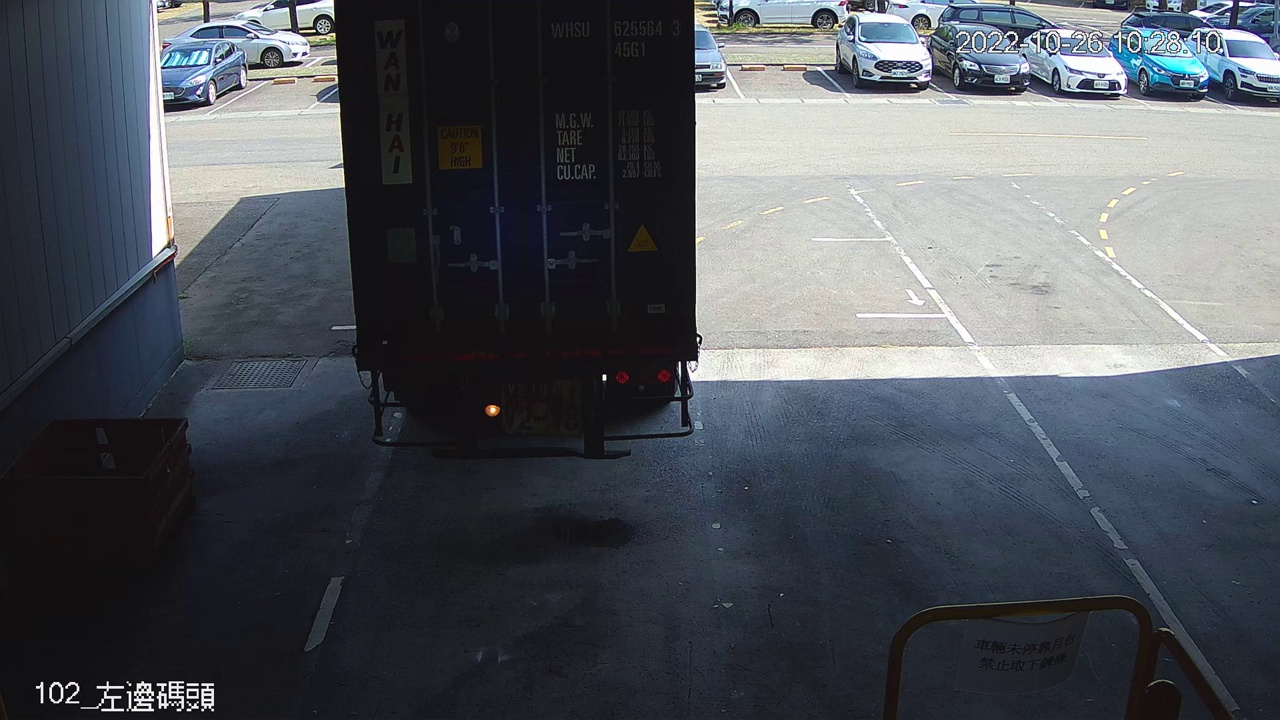container: (547, 13, 685, 65)
